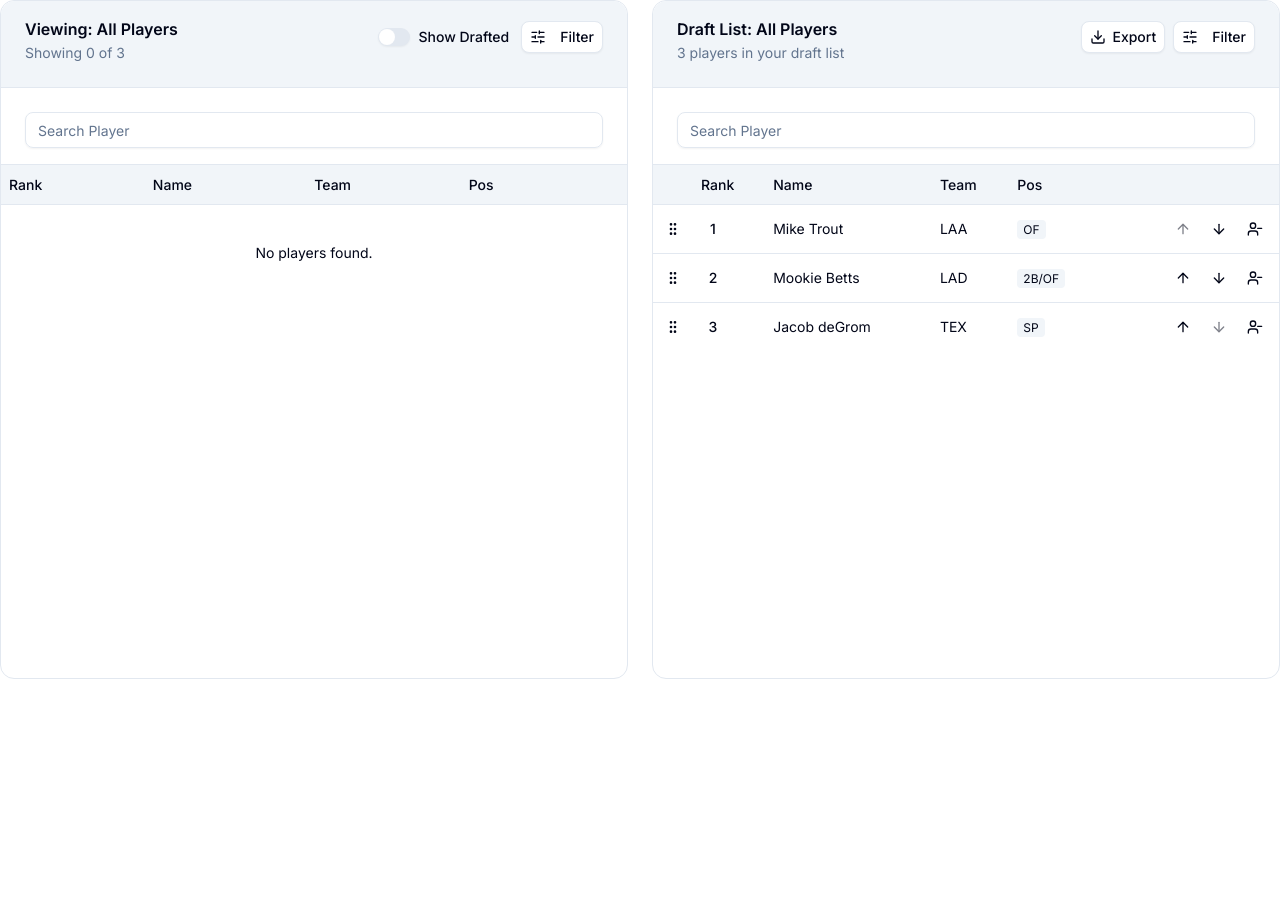
Test: DraftListBuilder › filter functionality › should filter draft list by position
The image size is (1280, 900).
Get the filter buttons - second one is for draft list panel
What coordinates should you click on to do the following:
click the button "Filter" in the row of "3 players in your draft list"
I would click on:
 (1214, 37)
Its box is left=1173, top=21, right=1255, bottom=53.
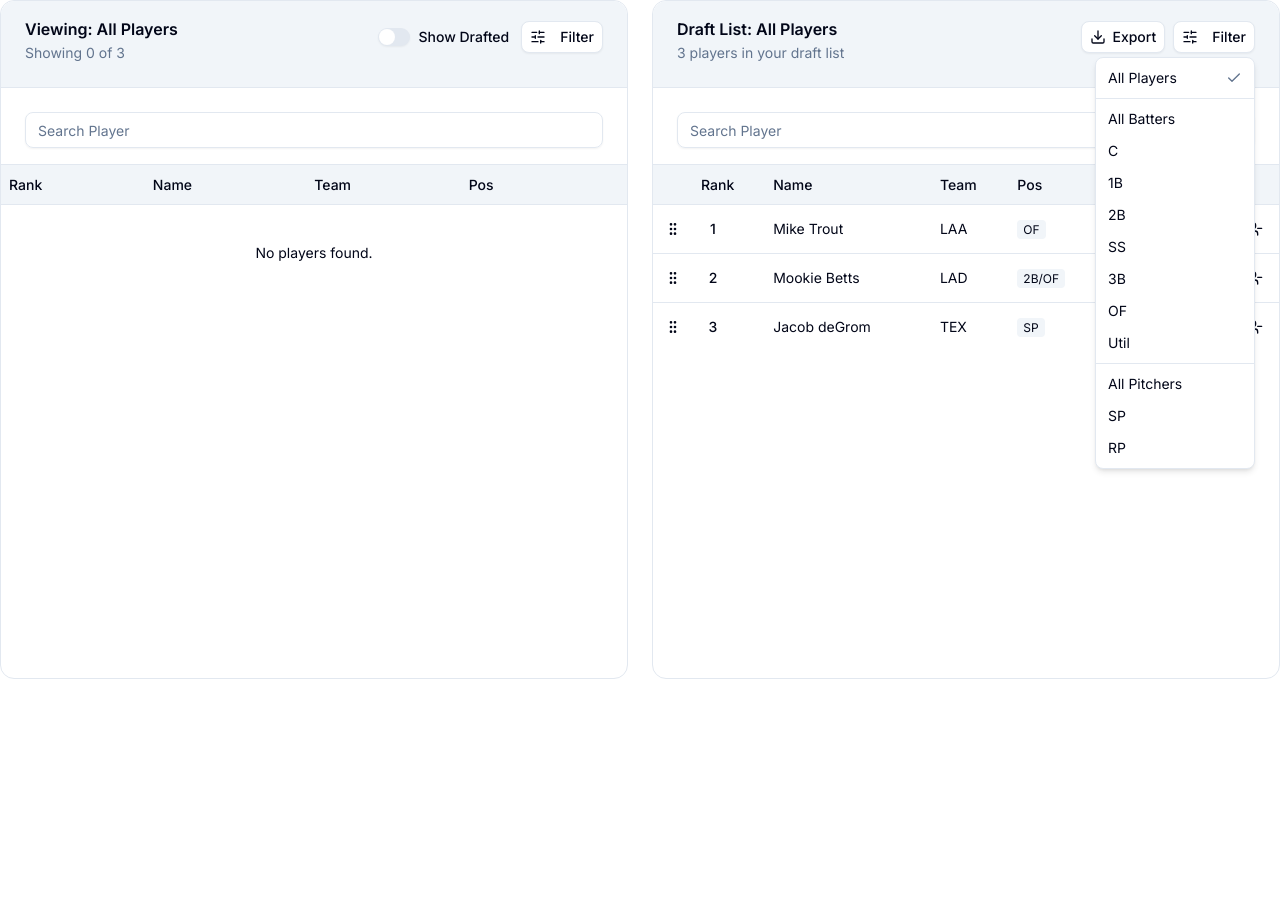
Select OF filter (exact match since "OF" is short)
What coordinates should you click on to do the following:
click the menu item "OF"
I would click on:
 (1118, 310)
Its box is left=1108, top=302, right=1127, bottom=319.
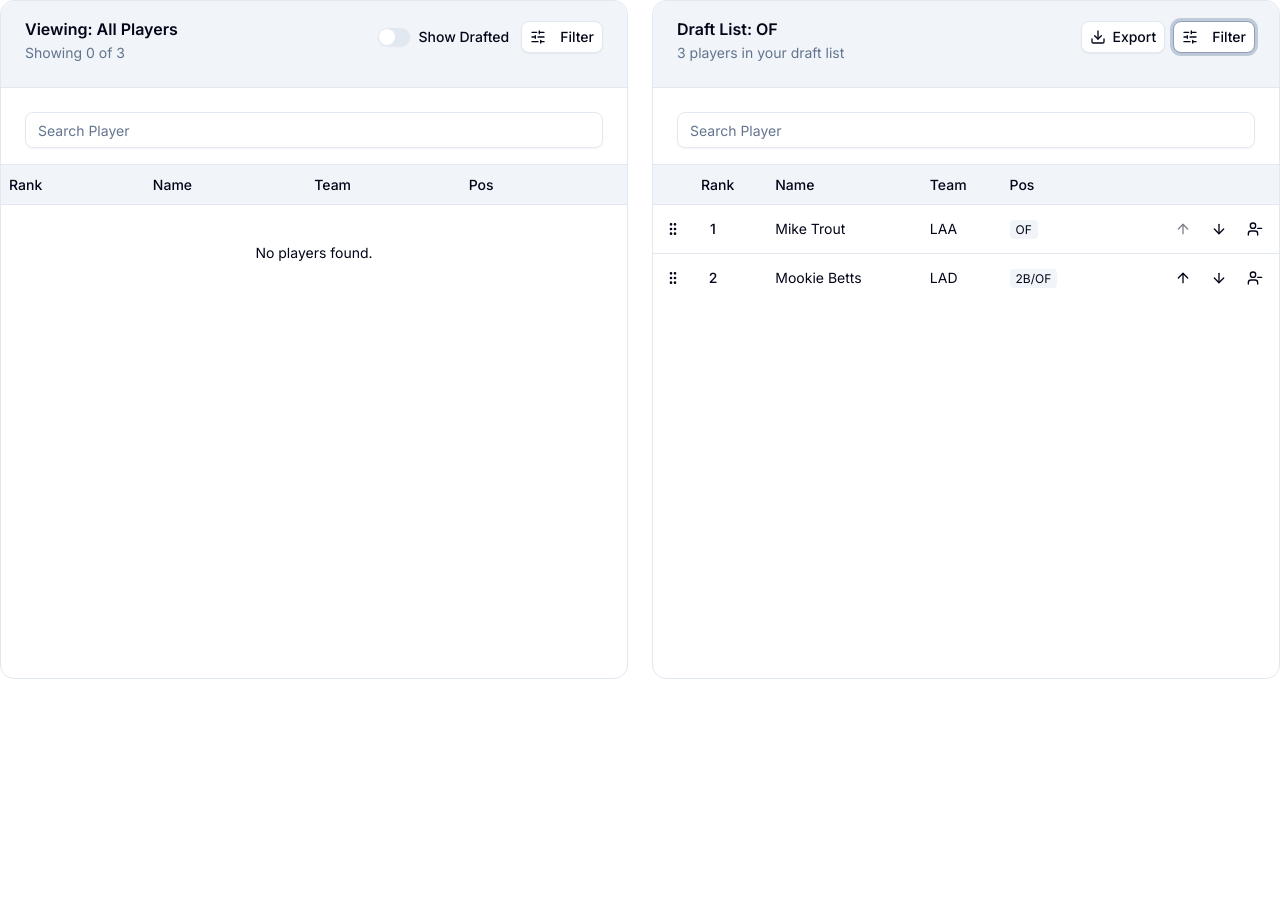
expect the text "Jacob deGrom" is gone: met
